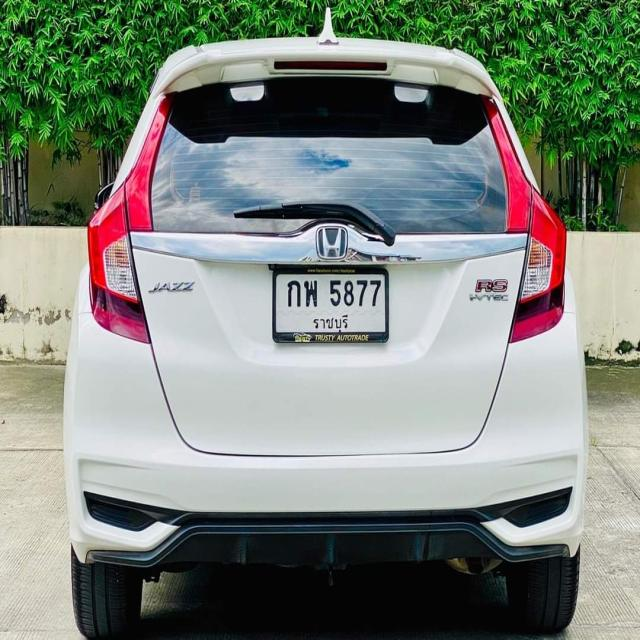license_plate: (271, 262, 390, 344)
